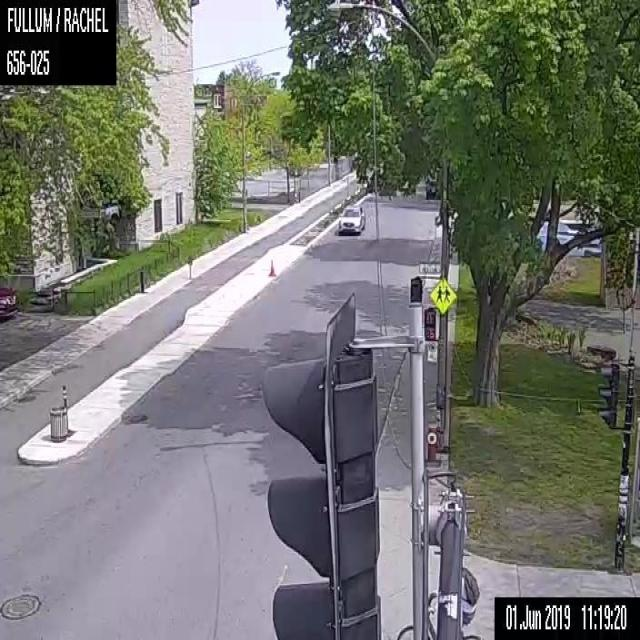construction: (267, 259, 275, 276)
vehicle: (338, 204, 364, 235), (0, 285, 15, 320), (425, 179, 440, 199)
